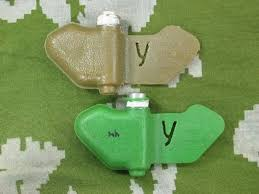butterfly: (62, 92, 236, 181), (38, 8, 198, 96)
